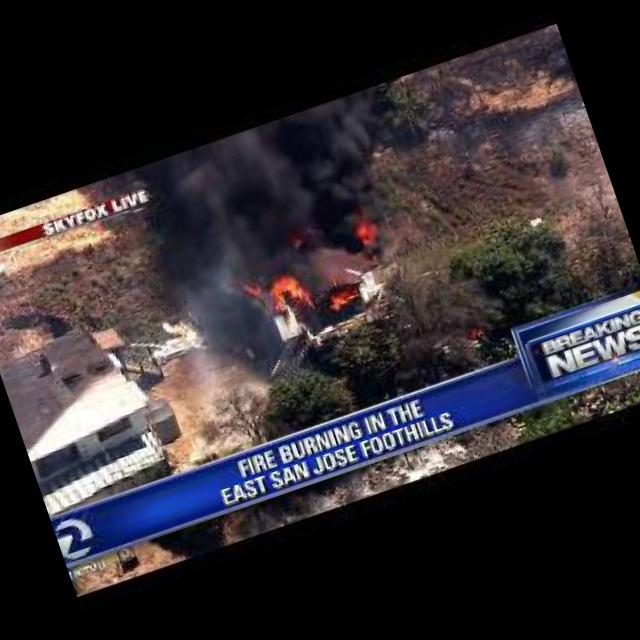fire: (226, 197, 400, 341)
smoke: (137, 230, 287, 398)
